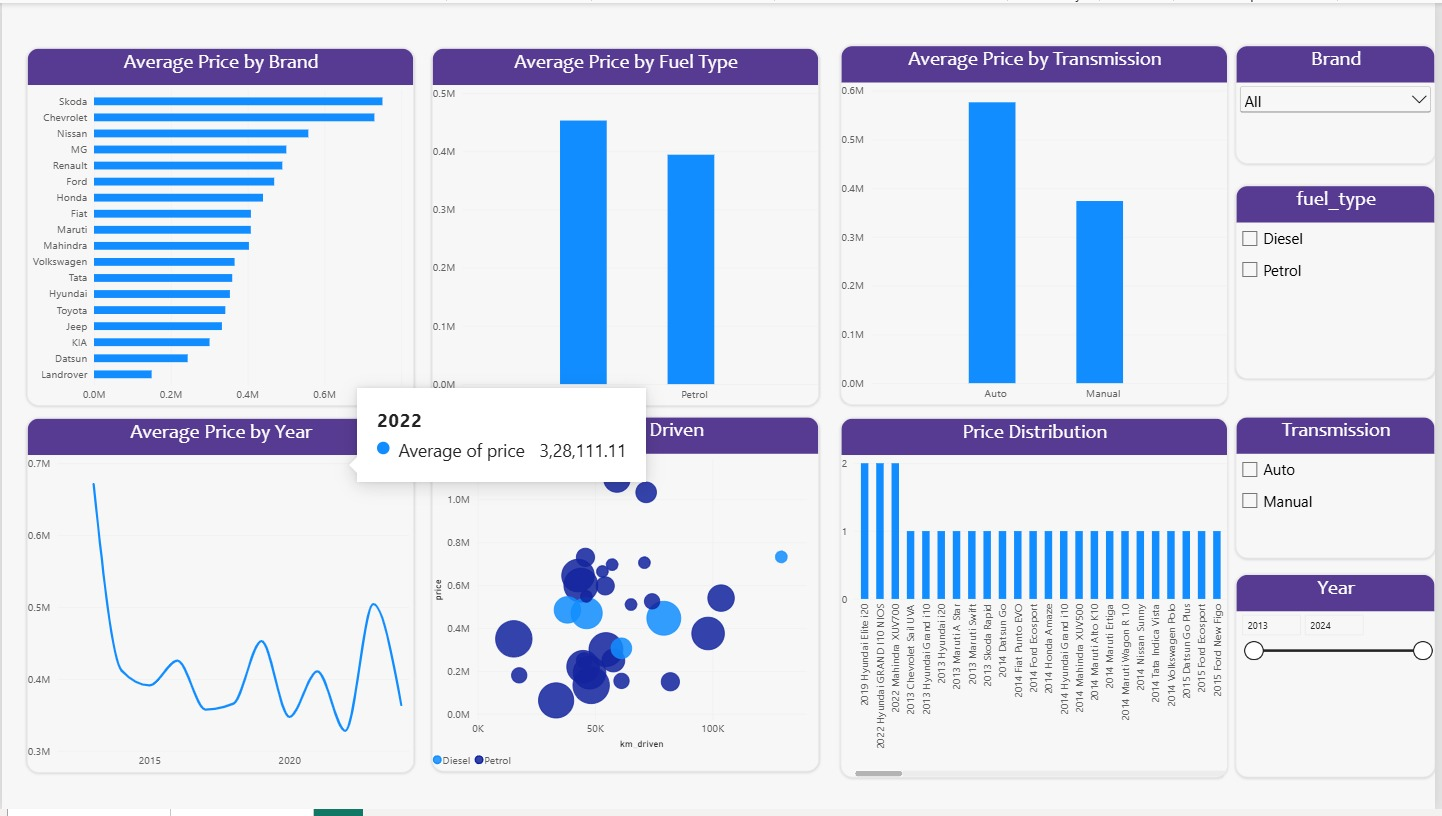

The page's visual inventory and layout, read from the dashboard file:
{"tool":"powerbi","page":{"name":"Price Analysis","canvas":[1920,1080],"ordinal":1},"visuals":[{"type":"clusteredBarChart","title":"Average Price by Brand","fields":{"Category":["cars24_hyderabad_final_fixed.brand"],"Y":["Avg(cars24_hyderabad_final_fixed.price)"]},"box":[32.9,59.7,518.7,479.6],"z":0},{"type":"clusteredColumnChart","title":"Average Price by Fuel Type","fields":{"Category":["cars24_hyderabad_final_fixed.fuel_type"],"Y":["Avg(cars24_hyderabad_final_fixed.price)"]},"box":[576.3,59.7,518.7,479.6],"z":1},{"type":"clusteredColumnChart","title":"Average Price by Transmission","fields":{"Category":["cars24_hyderabad_final_fixed.transmission"],"Y":["Avg(cars24_hyderabad_final_fixed.price)"]},"box":[1123.8,57.6,518.7,481.6],"z":2},{"type":"lineChart","title":"Average Price by Year","fields":{"Category":["cars24_hyderabad_final_fixed.year"],"Y":["Avg(cars24_hyderabad_final_fixed.price)"]},"box":[32.9,555.7,518.7,475.5],"z":3},{"type":"scatterChart","title":"Price vs KM Driven","fields":{"Series":["cars24_hyderabad_final_fixed.fuel_type"],"Size":["CountNonNull(cars24_hyderabad_final_fixed.car_name)"],"X":["cars24_hyderabad_final_fixed.km_driven"],"Y":["cars24_hyderabad_final_fixed.price"]},"box":[576.3,553.7,518.7,475.5],"z":4},{"type":"columnChart","title":"Price Distribution","fields":{"Category":["cars24_hyderabad_final_fixed.car_name"],"Y":["CountNonNull(cars24_hyderabad_final_fixed.price)"]},"box":[1123.8,555.7,518.7,481.6],"z":5},{"type":"slicer","title":"Brand","fields":{"Values":["cars24_hyderabad_final_fixed.brand"]},"box":[1652.8,57.6,267.6,158.5],"z":6},{"type":"slicer","title":"fuel_type","fields":{"Values":["cars24_hyderabad_final_fixed.fuel_type"]},"box":[1652.8,244.9,267.6,259.3],"z":7},{"type":"slicer","title":"Transmission","fields":{"Values":["cars24_hyderabad_final_fixed.transmission"]},"box":[1652.8,553.7,267.6,189.4],"z":8},{"type":"slicer","title":"Year","fields":{"Values":["cars24_hyderabad_final_fixed.year"]},"box":[1652.8,765.7,267.6,271.7],"z":9}]}

Visuals, with their boxes in screenshot pixels (x1, y1, x2, y2), scaled from the page's 1920x1080 canvas onto the 1442x816 screenshot:
"Average Price by Brand" clusteredBarChart: <bbox>25, 45, 414, 407</bbox>
"Average Price by Fuel Type" clusteredColumnChart: <bbox>433, 45, 822, 407</bbox>
"Average Price by Transmission" clusteredColumnChart: <bbox>844, 44, 1234, 407</bbox>
"Average Price by Year" lineChart: <bbox>25, 420, 414, 779</bbox>
"Price vs KM Driven" scatterChart: <bbox>433, 418, 822, 778</bbox>
"Price Distribution" columnChart: <bbox>844, 420, 1234, 784</bbox>
"Brand" slicer: <bbox>1241, 44, 1441, 163</bbox>
"fuel_type" slicer: <bbox>1241, 185, 1441, 381</bbox>
"Transmission" slicer: <bbox>1241, 418, 1441, 561</bbox>
"Year" slicer: <bbox>1241, 579, 1441, 784</bbox>
